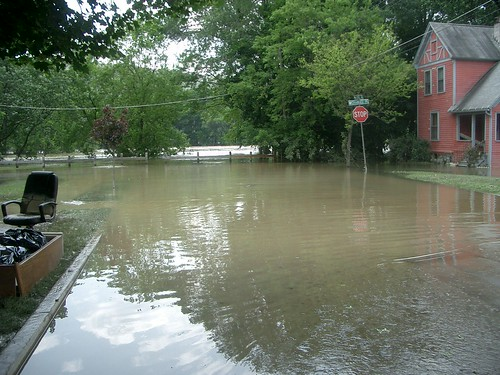building: (419, 22, 500, 160)
chair: (6, 164, 70, 232)
sign: (347, 94, 372, 126)
street: (46, 160, 500, 375)
vegetation: (1, 1, 407, 159)
